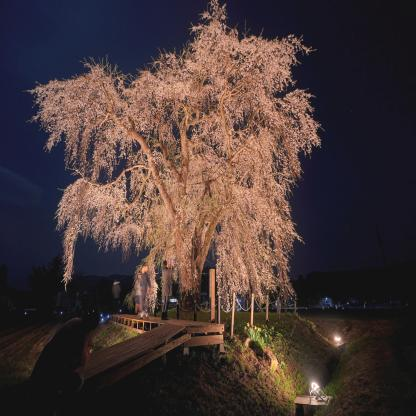ShidareZakura: (24, 1, 325, 315)
